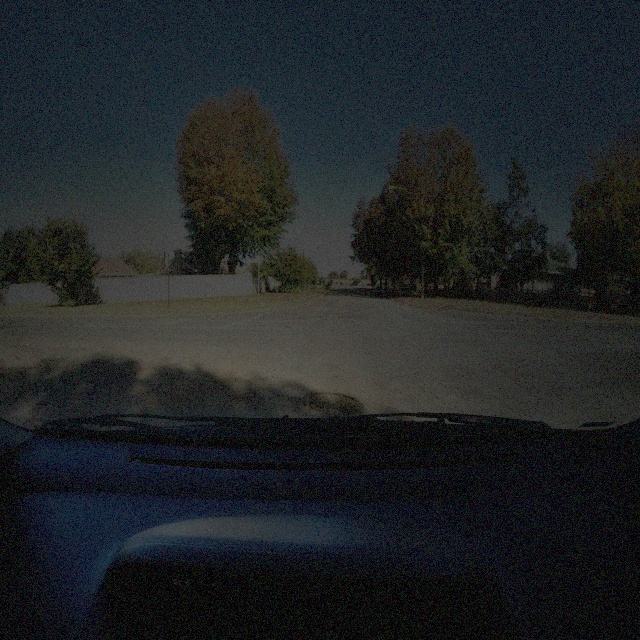pothole: (300, 388, 364, 417)
